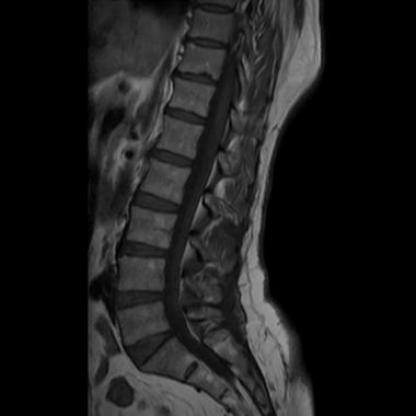Disc Bulgerotation: (116, 284, 166, 317), (118, 236, 170, 261)
